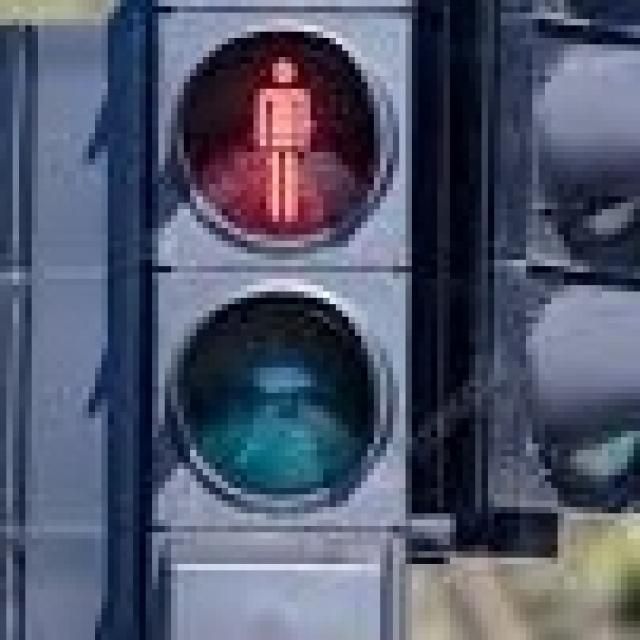red-crossing: (209, 18, 349, 235)
